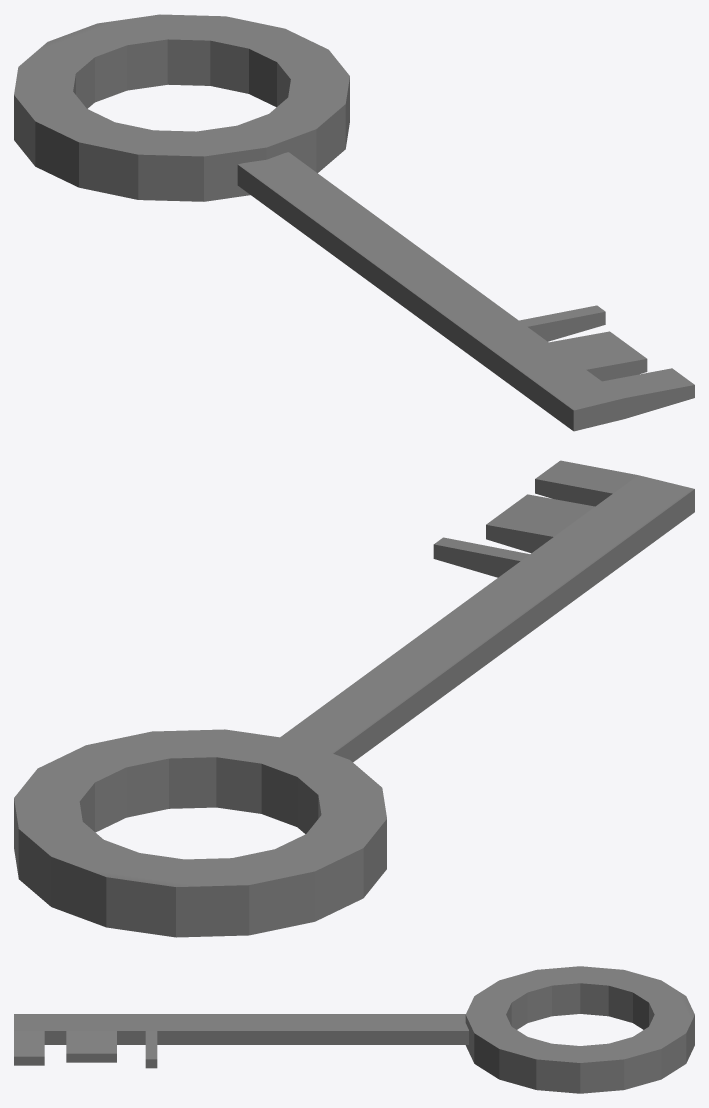
Rendered from KLUCZ.fbx.
The picture shows the model from 3 angles, top to bottom: view 1: azimuth 30°, elevation 25°; view 2: azimuth 150°, elevation 25°; view 3: azimuth 270°, elevation 25°; orthographic projection. The views are drawn at different scales.
Parts seen in each view (by area): view 1: KLUCZ; view 2: KLUCZ; view 3: KLUCZ.
Part boxes in pixels (bbox=[...]): KLUCZ: bbox=[14, 14, 694, 431]; KLUCZ: bbox=[14, 460, 694, 937]; KLUCZ: bbox=[14, 966, 694, 1093].
Size of the model in its own units: 177 by 59.75 by 8.82.
